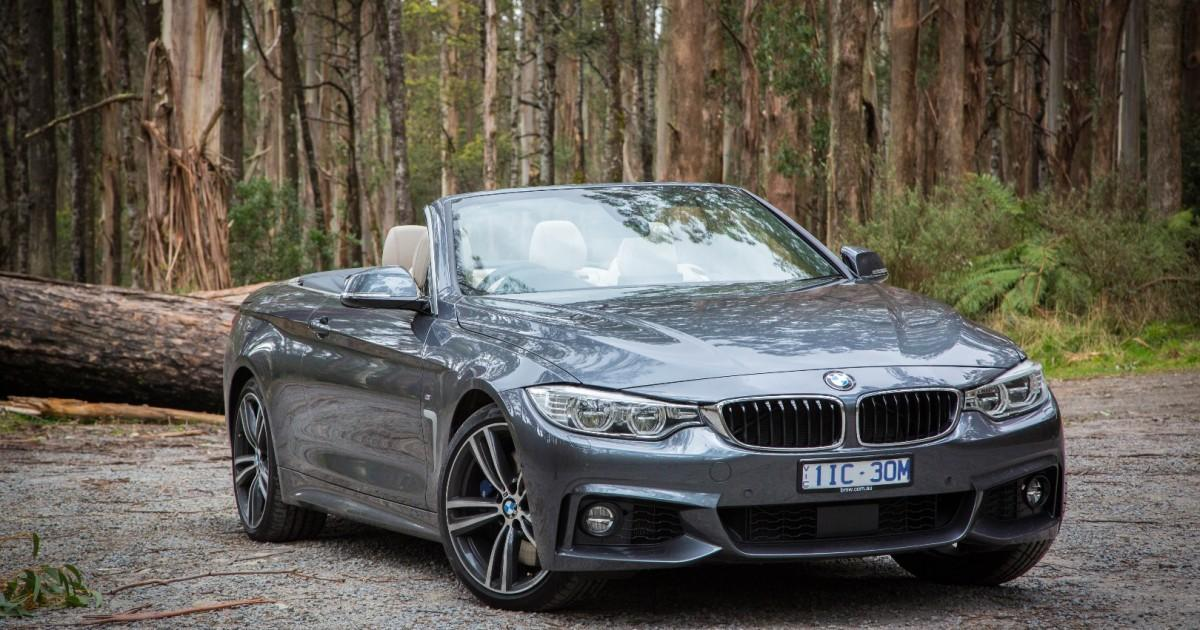car: (206, 175, 1056, 612)
